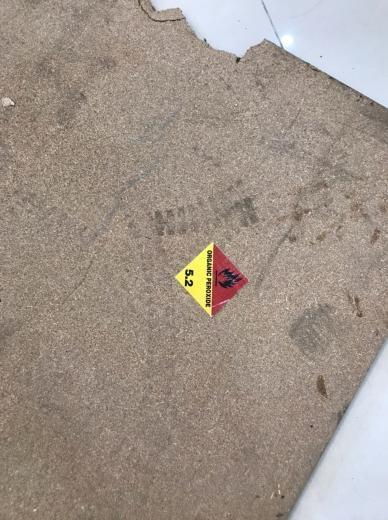organic-peroxide: (172, 243, 248, 323)
